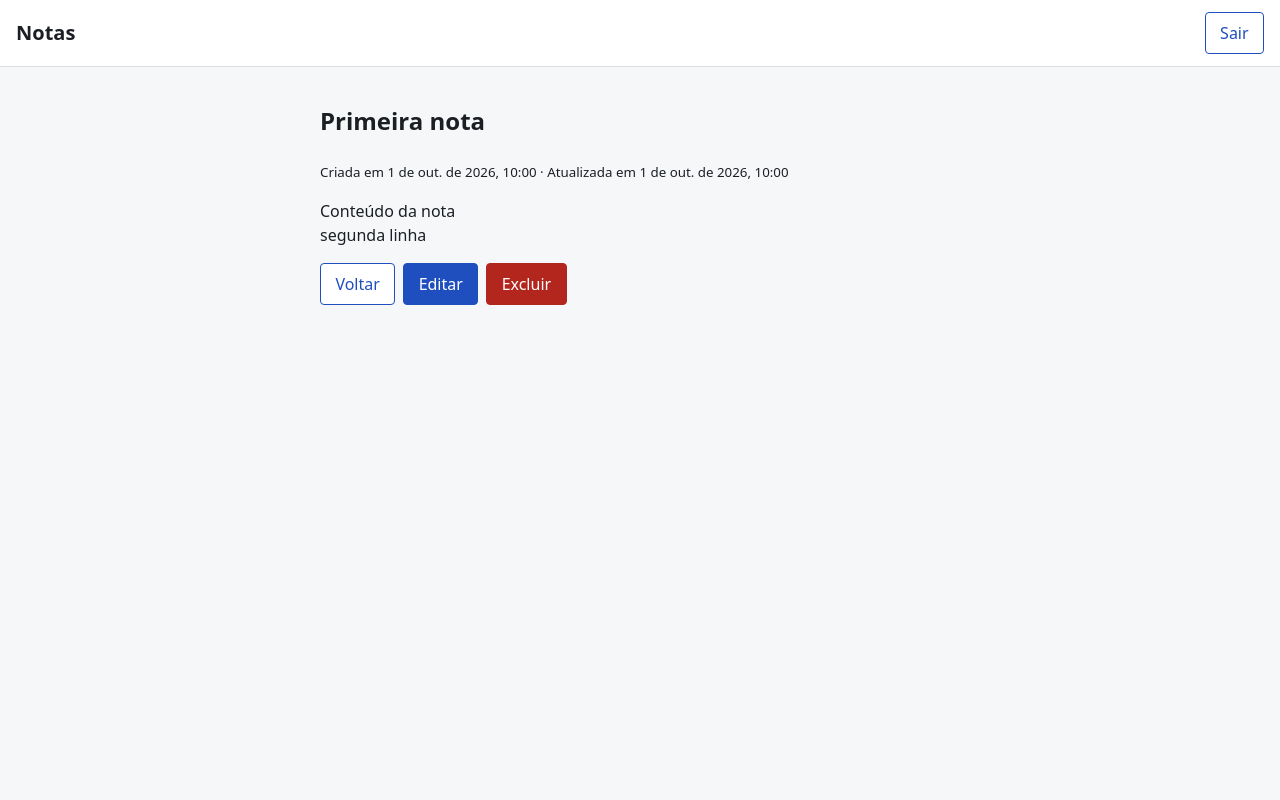
Scenario: exclusão de nota › remove só após 204 e volta à lista atualizada
Click the button "Excluir" at (526, 284), box x1=486 y1=263 x2=567 y2=305
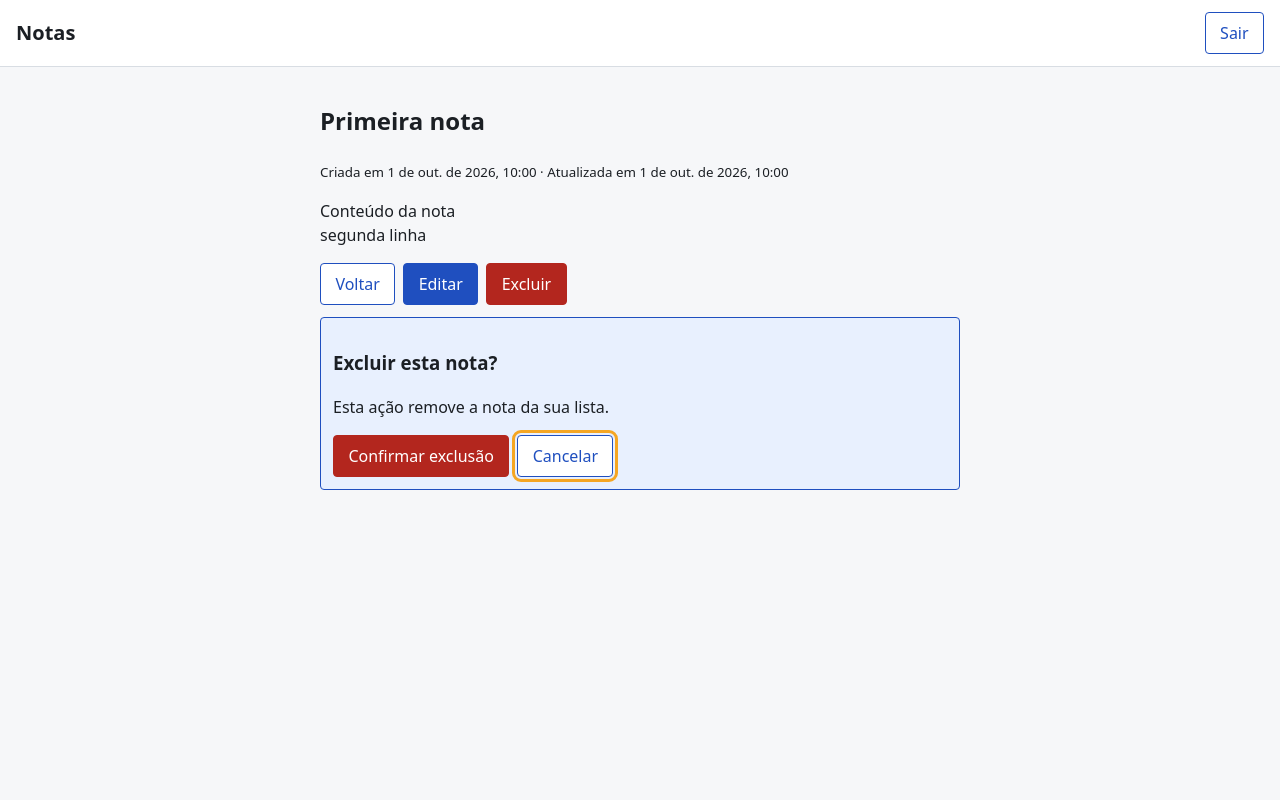
Click the button "Confirmar exclusão" at (421, 456), box x1=333 y1=435 x2=509 y2=477
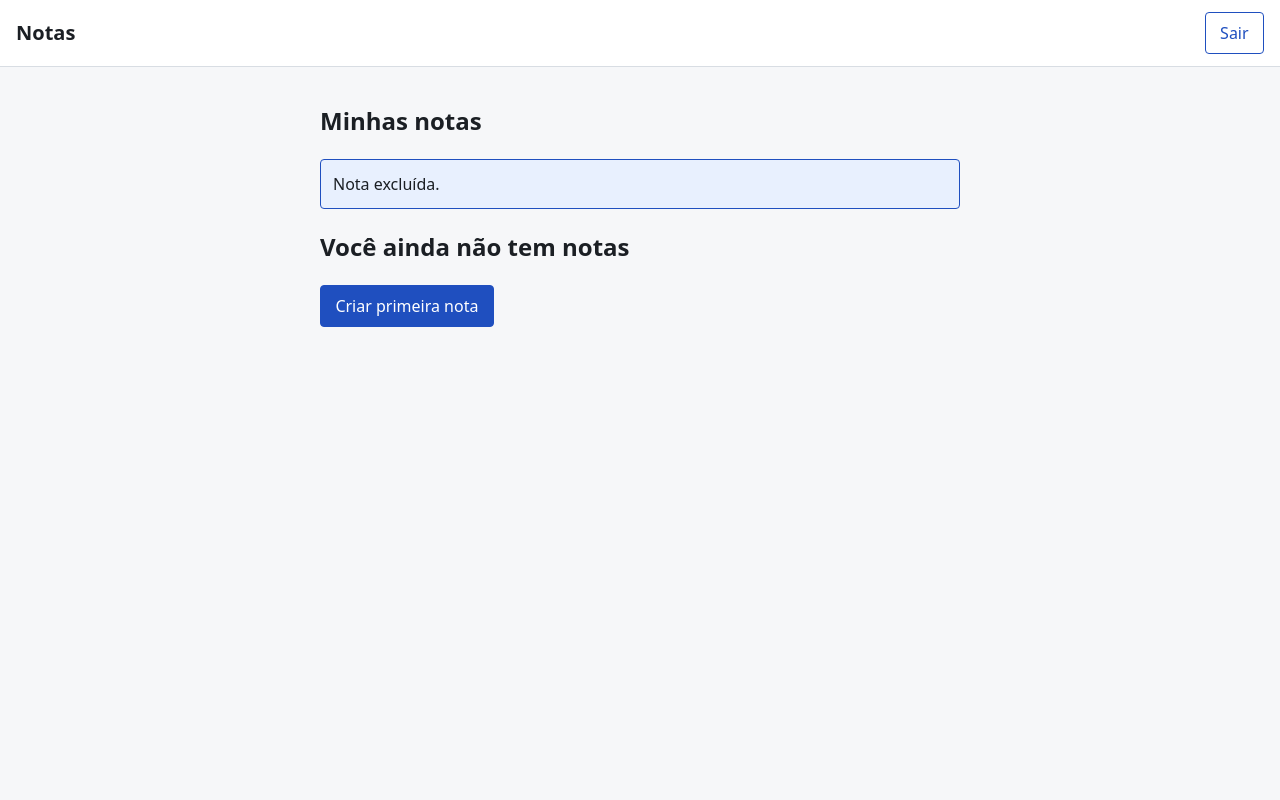
expect the heading "Você ainda não tem notas" is shown: met, box x1=320 y1=230 x2=630 y2=263
expect the text "Nota excluída." is shown: met, box x1=320 y1=159 x2=960 y2=209
